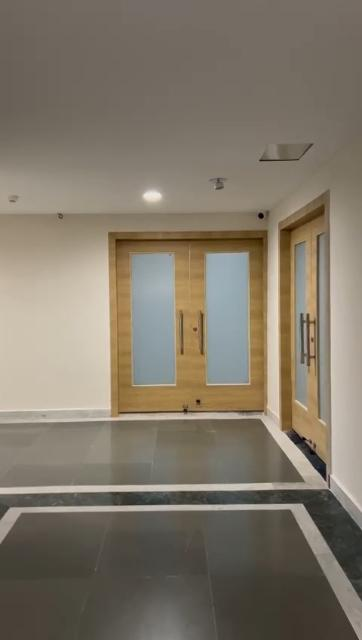door: (111, 230, 269, 412), (276, 220, 332, 456)
floor: (0, 414, 362, 640)
wall: (0, 210, 104, 406), (325, 167, 362, 513)
